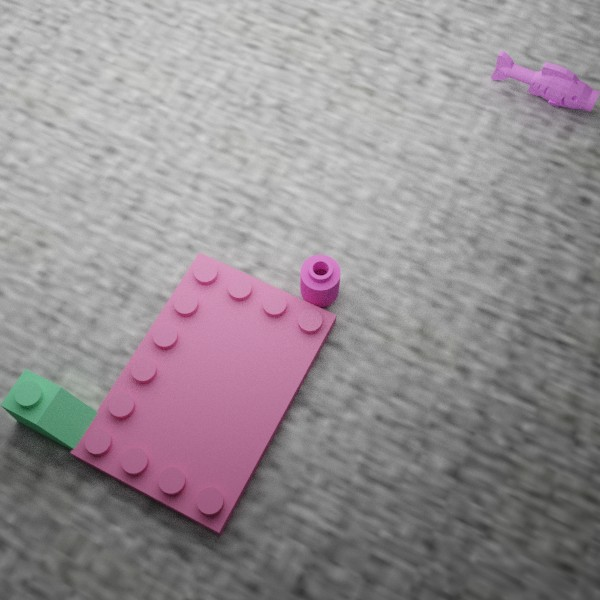lego: (69, 252, 336, 535), (0, 368, 108, 457), (491, 50, 600, 111), (300, 254, 340, 307)
